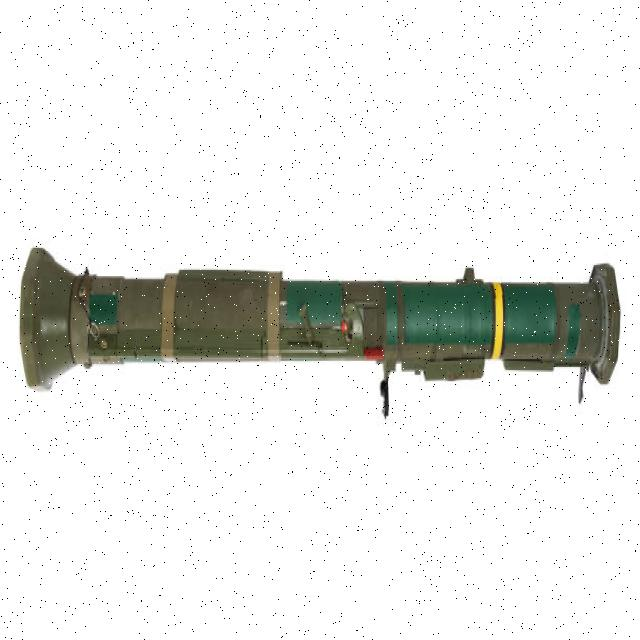bazooka: (21, 242, 629, 422)
